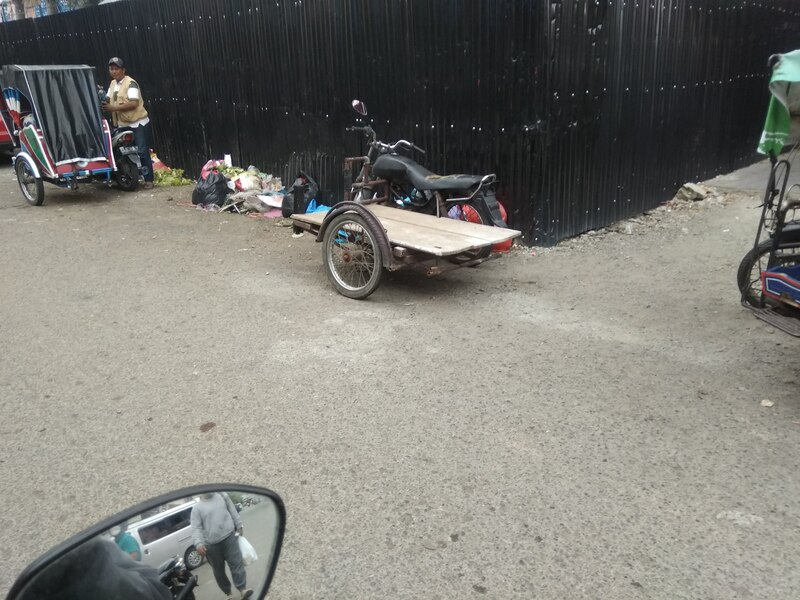becak barang: (280, 91, 530, 316)
